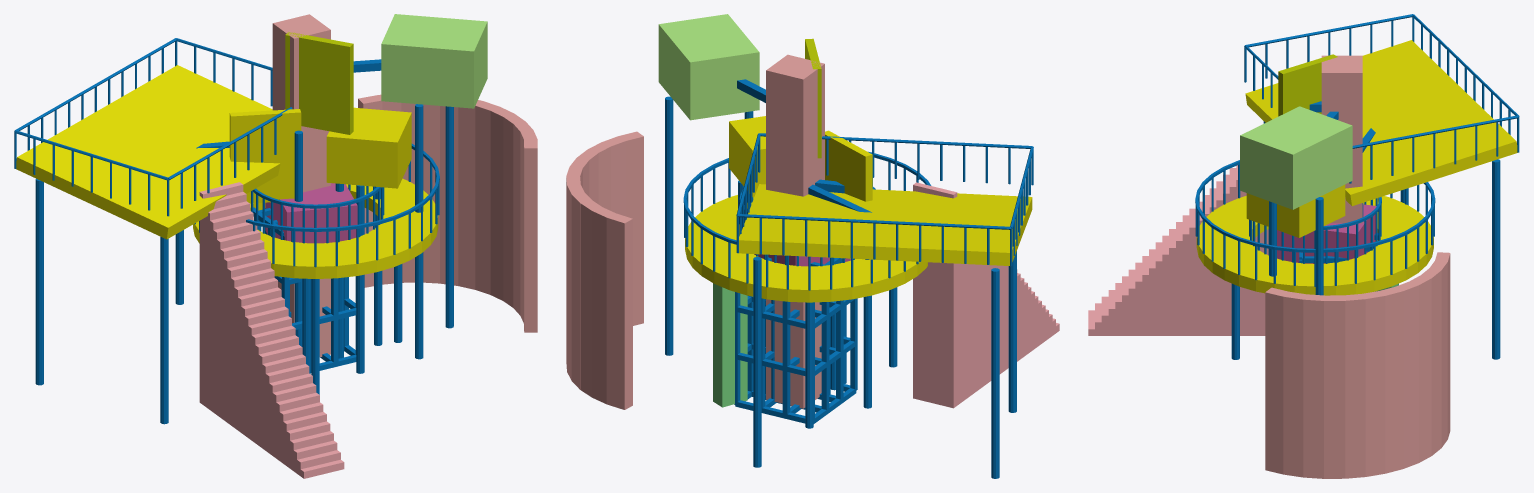
The model's file is folie_tag_070.glb.
3 views of the same model, side by side, from view 1: azimuth 30°, elevation 25°; view 2: azimuth 150°, elevation 25°; view 3: azimuth 270°, elevation 25° (orthographic). The views are drawn at different scales.
Parts seen in each view (by area): view 1: folie_tag_070_line, folie_tag_070_stairs, folie_tag_070_00_plate, folie_tag_070_02_curve, folie_tag_070_03_block, folie_tag_070_01_ring, folie_tag_070_09_block, folie_tag_070_06_panel, folie_tag_070_core, folie_tag_070_08_panel, folie_tag_070_05_block, folie_tag_070_04_cage; view 2: folie_tag_070_line, folie_tag_070_02_curve, folie_tag_070_00_plate, folie_tag_070_stairs, folie_tag_070_core, folie_tag_070_01_ring, folie_tag_070_03_block, folie_tag_070_04_cage, folie_tag_070_07_fin, folie_tag_070_08_panel, folie_tag_070_09_block, folie_tag_070_06_panel; view 3: folie_tag_070_02_curve, folie_tag_070_00_plate, folie_tag_070_line, folie_tag_070_stairs, folie_tag_070_01_ring, folie_tag_070_03_block, folie_tag_070_core, folie_tag_070_09_block, folie_tag_070_06_panel, folie_tag_070_05_block.
Part boxes in pixels (x1,y1,x2,y2): folie_tag_070_line: (14, 38, 453, 424); folie_tag_070_stairs: (199, 182, 344, 478); folie_tag_070_00_plate: (16, 65, 280, 239); folie_tag_070_02_curve: (358, 94, 537, 332); folie_tag_070_03_block: (381, 14, 487, 108); folie_tag_070_01_ring: (193, 178, 438, 278); folie_tag_070_09_block: (326, 107, 411, 188); folie_tag_070_06_panel: (285, 32, 353, 134); folie_tag_070_core: (272, 14, 330, 357); folie_tag_070_08_panel: (229, 109, 301, 203); folie_tag_070_05_block: (265, 183, 357, 243); folie_tag_070_04_cage: (253, 207, 356, 372); folie_tag_070_line: (665, 79, 1033, 478); folie_tag_070_02_curve: (566, 131, 643, 409); folie_tag_070_00_plate: (739, 184, 1032, 265); folie_tag_070_stairs: (913, 182, 1059, 408); folie_tag_070_core: (766, 54, 824, 408); folie_tag_070_01_ring: (685, 195, 927, 302); folie_tag_070_03_block: (658, 14, 759, 120); folie_tag_070_04_cage: (734, 257, 857, 423); folie_tag_070_07_fin: (713, 283, 747, 407); folie_tag_070_08_panel: (825, 130, 872, 201); folie_tag_070_09_block: (729, 116, 765, 197); folie_tag_070_06_panel: (805, 38, 821, 158); folie_tag_070_02_curve: (1265, 252, 1450, 478); folie_tag_070_00_plate: (1245, 40, 1517, 206); folie_tag_070_line: (1195, 14, 1519, 359); folie_tag_070_stairs: (1088, 165, 1268, 335); folie_tag_070_01_ring: (1196, 196, 1433, 295); folie_tag_070_03_block: (1240, 106, 1352, 209); folie_tag_070_core: (1321, 55, 1362, 223); folie_tag_070_09_block: (1246, 184, 1345, 237); folie_tag_070_06_panel: (1278, 54, 1337, 116); folie_tag_070_05_block: (1277, 204, 1376, 263).
Bounding box in the file's own units: 13.88 × 9.33 × 11.53.
